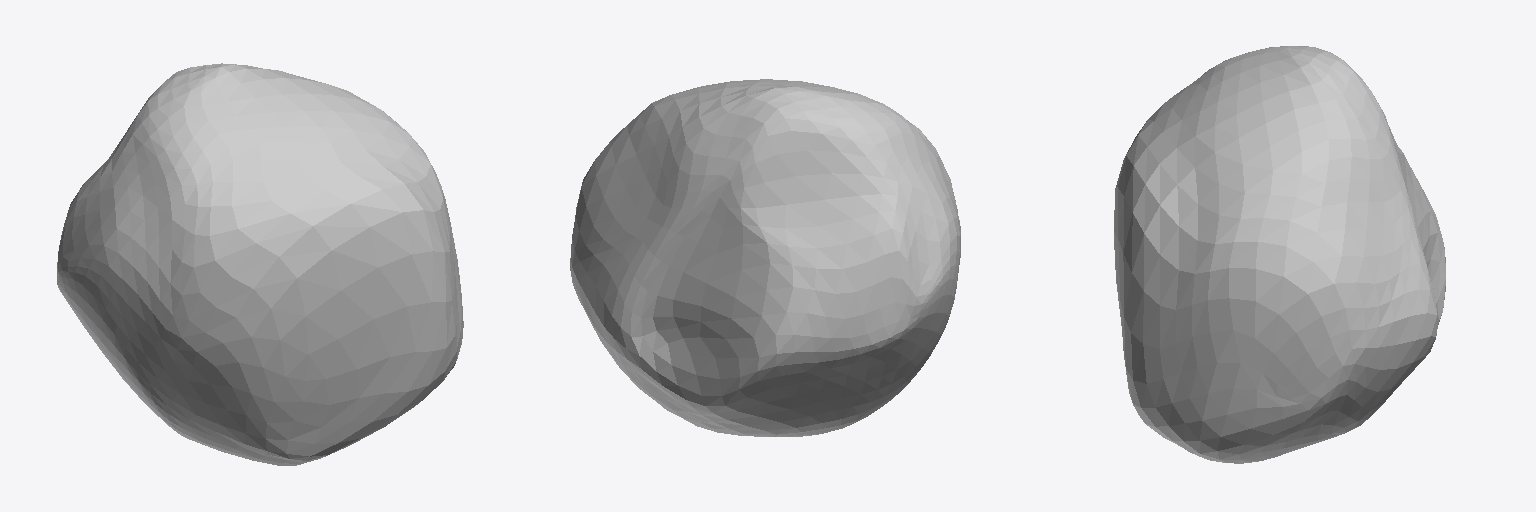
The model's file is juno_scaled.obj.
3 views of the same model, side by side, from view 1: azimuth 30°, elevation 25°; view 2: azimuth 150°, elevation 25°; view 3: azimuth 270°, elevation 25° (orthographic).
Size of the model in its own units: 0.1605 by 0.1575 by 0.1297.